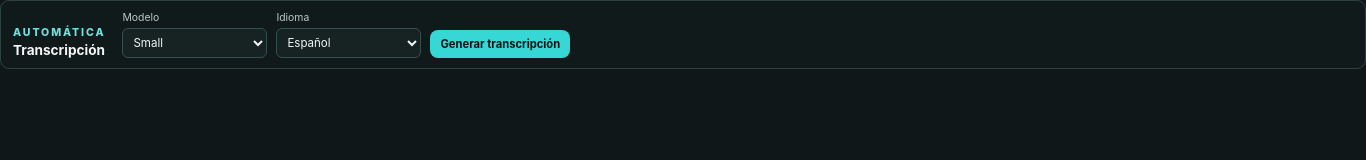
Test: transcription panel › shows backend errors and does not display a guessed percentage
Step 1. Click the button "Generar transcripción" → (500, 44), box [430,30,570,58]
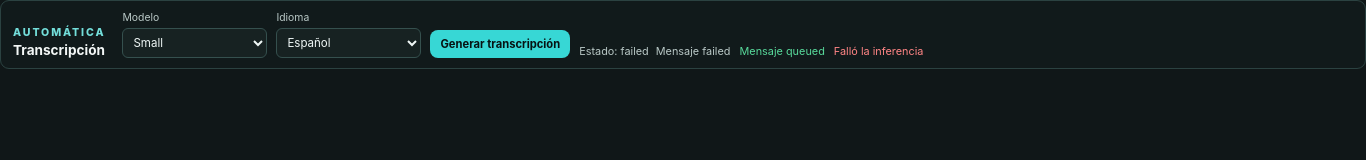
Check: the message "Falló la inferencia" is shown, box [834,44,924,58]
Check: the text "Estado: failed" is shown, box [579,44,649,58]
